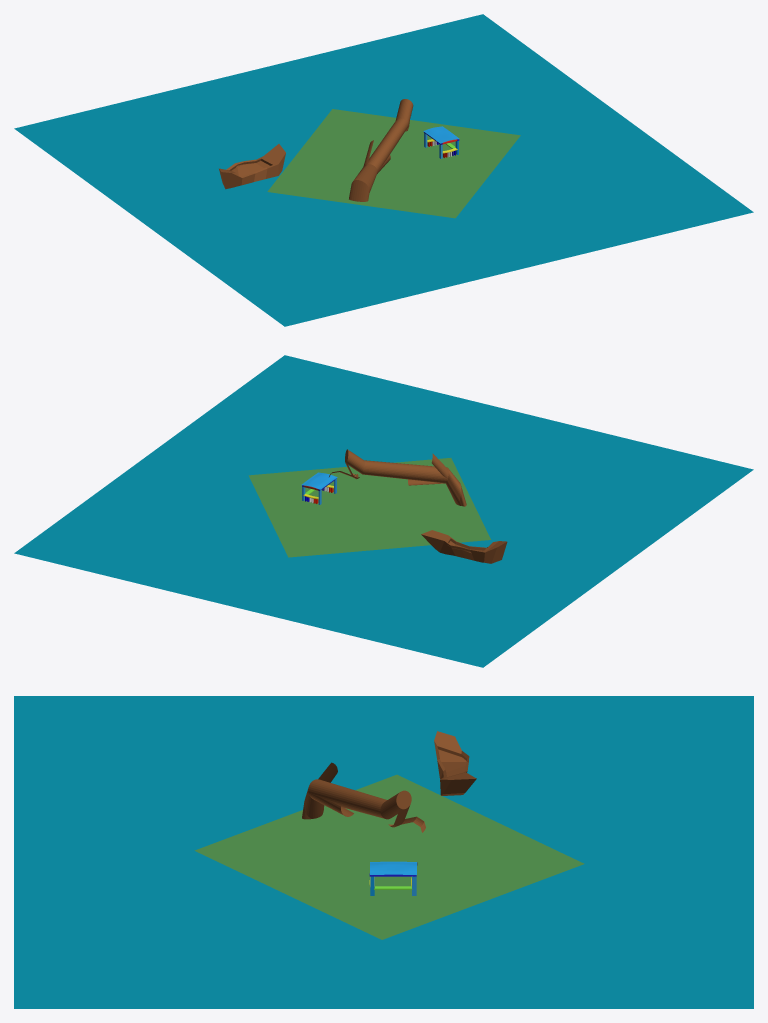
Rendered from TendaLagoa.glb.
3 views of the same model, one above another, from view 1: azimuth 30°, elevation 25°; view 2: azimuth 150°, elevation 25°; view 3: azimuth 270°, elevation 25° (orthographic). The views are drawn at different scales.
Parts seen in each view (by area): view 1: Plane, Plane.001, Cylinder, Cube; view 2: Plane, Plane.001, Cylinder, Cube; view 3: Plane, Plane.001, Cylinder, Cube, Plane.002.
Part boxes in pixels (bbox=[...]): Plane: bbox=[14, 14, 753, 326]; Plane.001: bbox=[267, 109, 520, 218]; Cylinder: bbox=[349, 99, 413, 201]; Cube: bbox=[219, 144, 285, 189]; Plane: bbox=[14, 355, 753, 667]; Plane.001: bbox=[248, 458, 490, 557]; Cylinder: bbox=[329, 449, 466, 506]; Cube: bbox=[421, 530, 507, 563]; Plane: bbox=[14, 696, 753, 1008]; Plane.001: bbox=[194, 774, 584, 939]; Cylinder: bbox=[302, 762, 425, 832]; Cube: bbox=[434, 731, 476, 795]; Plane.002: bbox=[370, 861, 416, 874].
Bounding box in the file's own units: 43.9 × 6.41 × 43.9.
